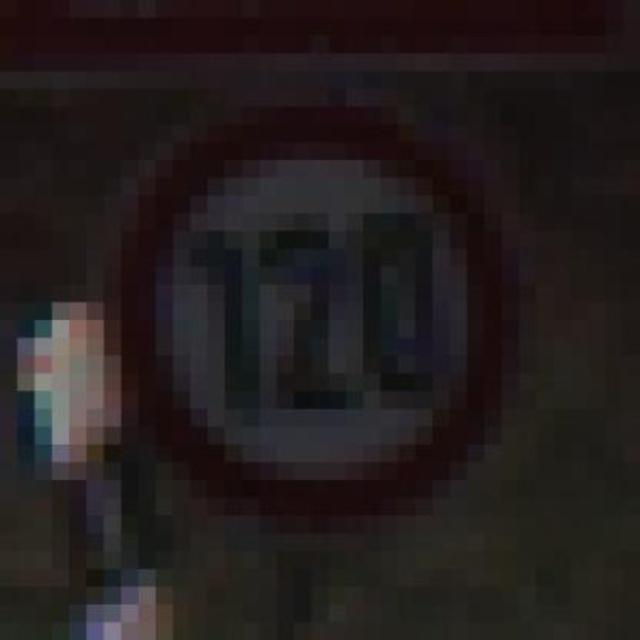Tốc độ tối đa cho phép 120km/h: (120, 100, 507, 512)
